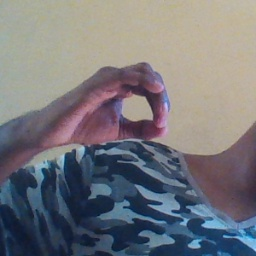O: (58, 59, 173, 148)
